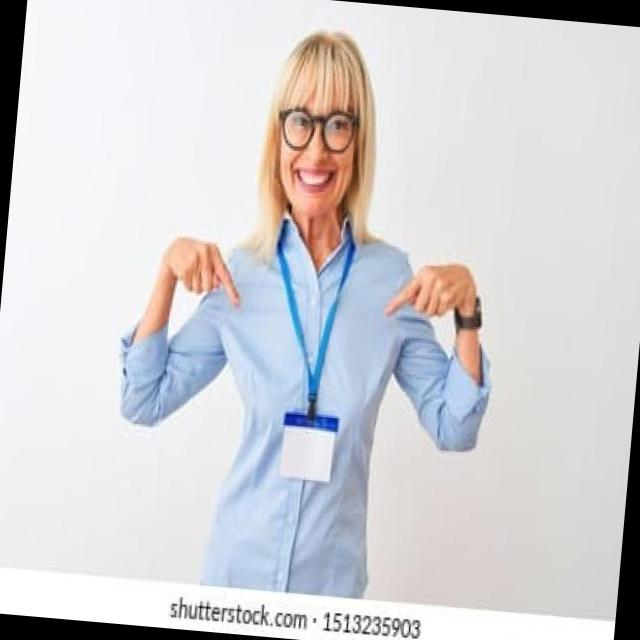id_card: (256, 220, 363, 486)
